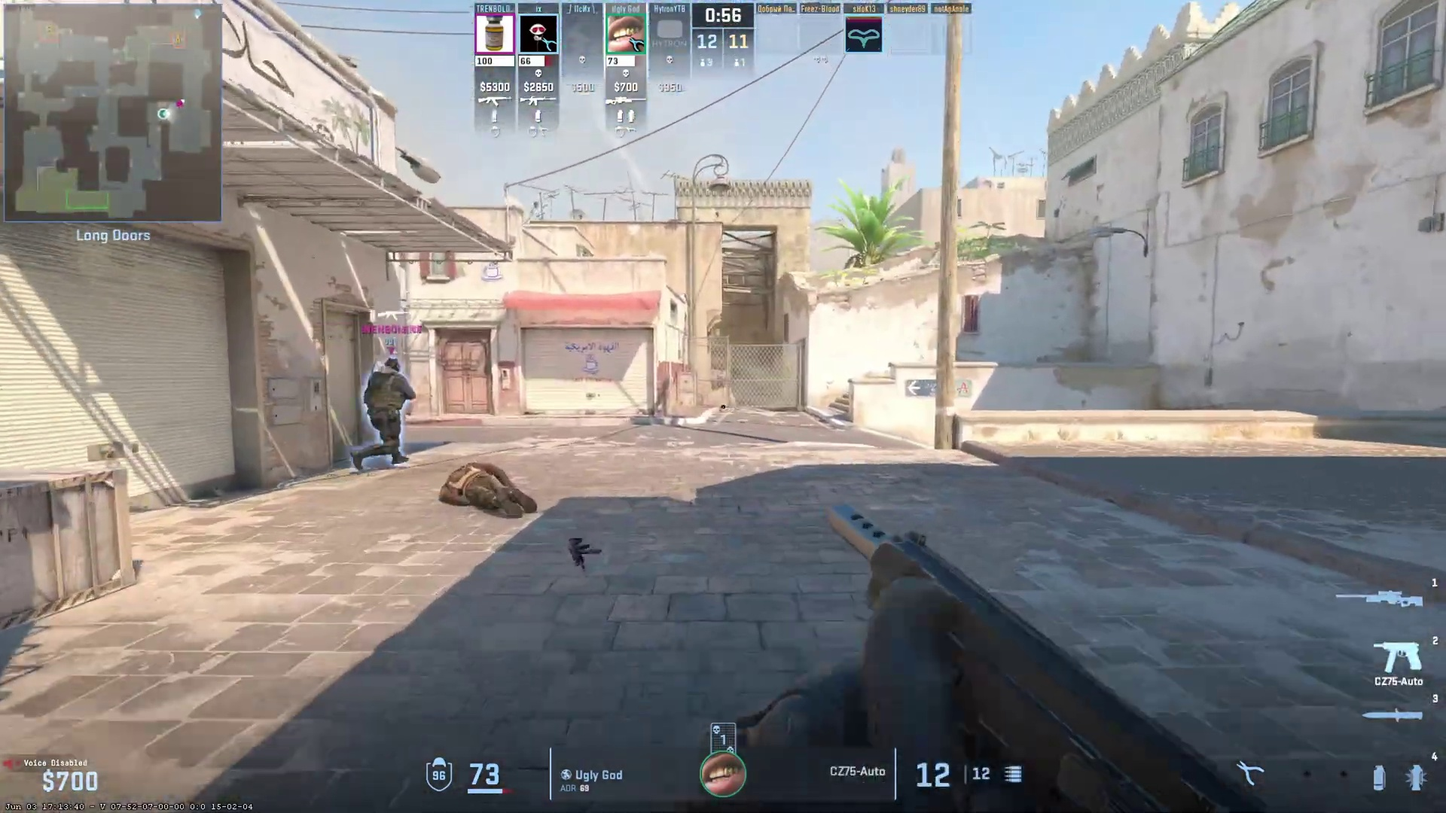CT: (354, 358, 407, 471)
